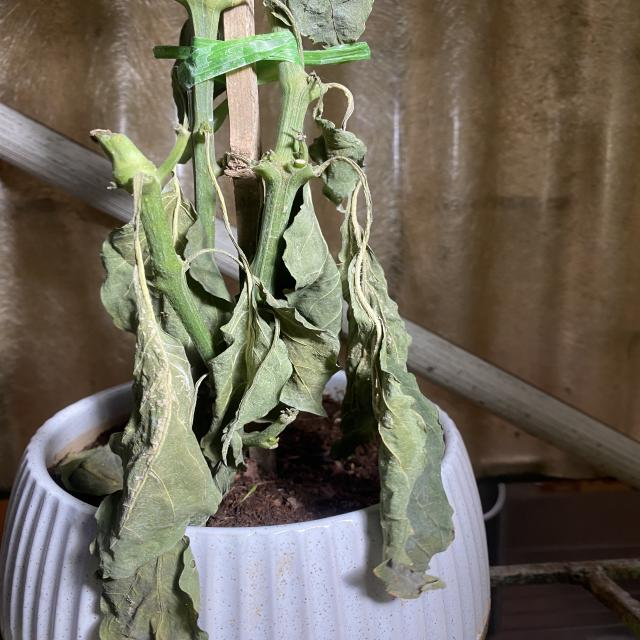Leaf: (91, 289, 225, 581), (370, 329, 454, 601)
